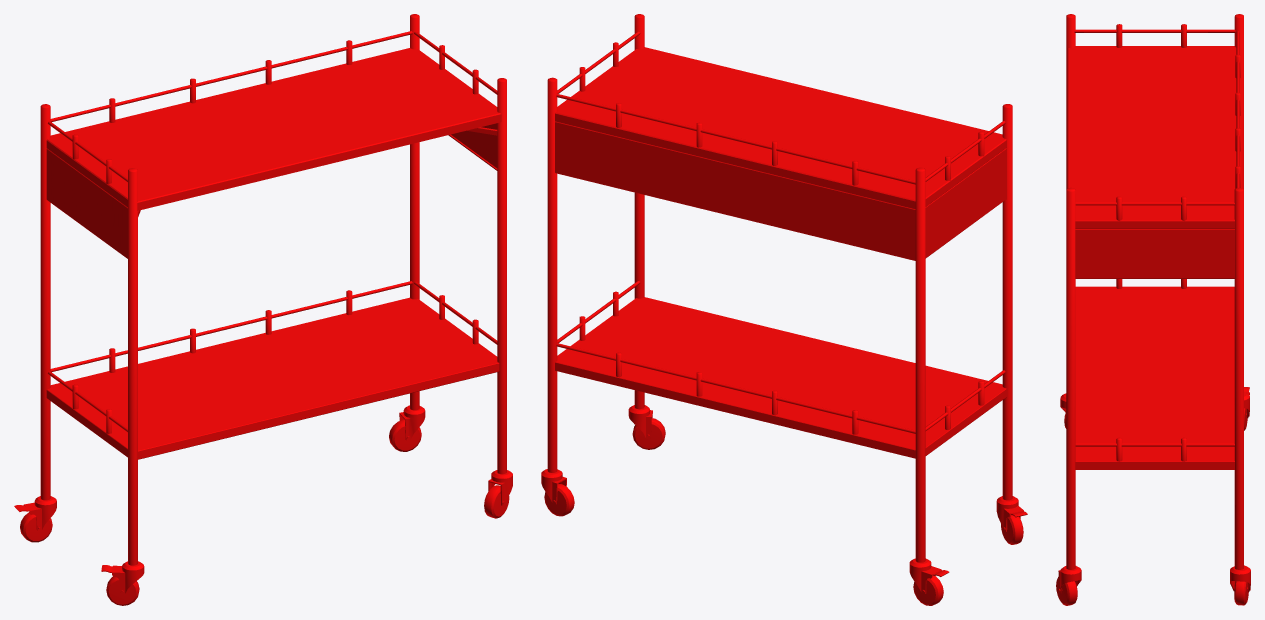
File: Medical_Cart01.fbx
3 renders of one model, left to right at view 1: azimuth 30°, elevation 25°; view 2: azimuth 150°, elevation 25°; view 3: azimuth 270°, elevation 25°, orthographic. The views are drawn at different scales.
Visible parts, largest first — view 1: SM_Medical_Cart01; view 2: SM_Medical_Cart01; view 3: SM_Medical_Cart01.
Part boxes in pixels (x1=…): SM_Medical_Cart01: x1=14, y1=14, x2=512, y2=605; SM_Medical_Cart01: x1=541, y1=14, x2=1027, y2=605; SM_Medical_Cart01: x1=1056, y1=14, x2=1250, y2=605.
Size of the model in its own units: 1.2 by 1.22 by 0.5152.
